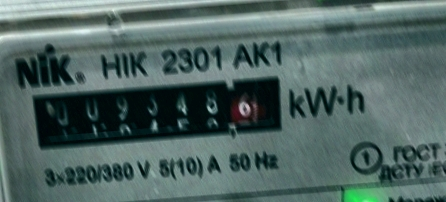0: (54, 99, 73, 126), (85, 94, 101, 121)
3: (146, 90, 162, 116)
4: (173, 85, 193, 117)
6: (236, 88, 256, 118)
8: (205, 86, 222, 115)
9: (116, 94, 132, 122)
screen: (16, 61, 299, 161)
